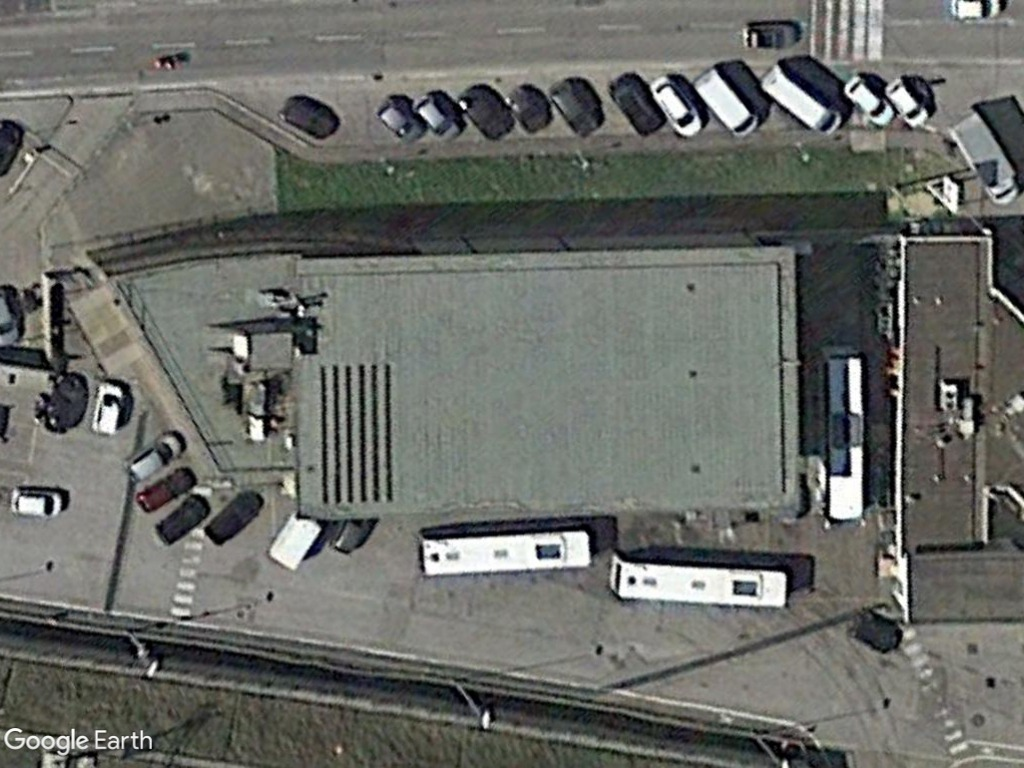bus: (603, 545, 796, 615), (411, 518, 597, 582), (816, 340, 870, 531)
car: (647, 71, 706, 138), (838, 70, 897, 131), (408, 87, 465, 144), (128, 427, 187, 482), (370, 96, 427, 148), (880, 72, 930, 130), (1, 482, 69, 520), (92, 376, 126, 439)
truck: (944, 108, 1024, 207)
van: (754, 62, 847, 135), (686, 64, 762, 137)
